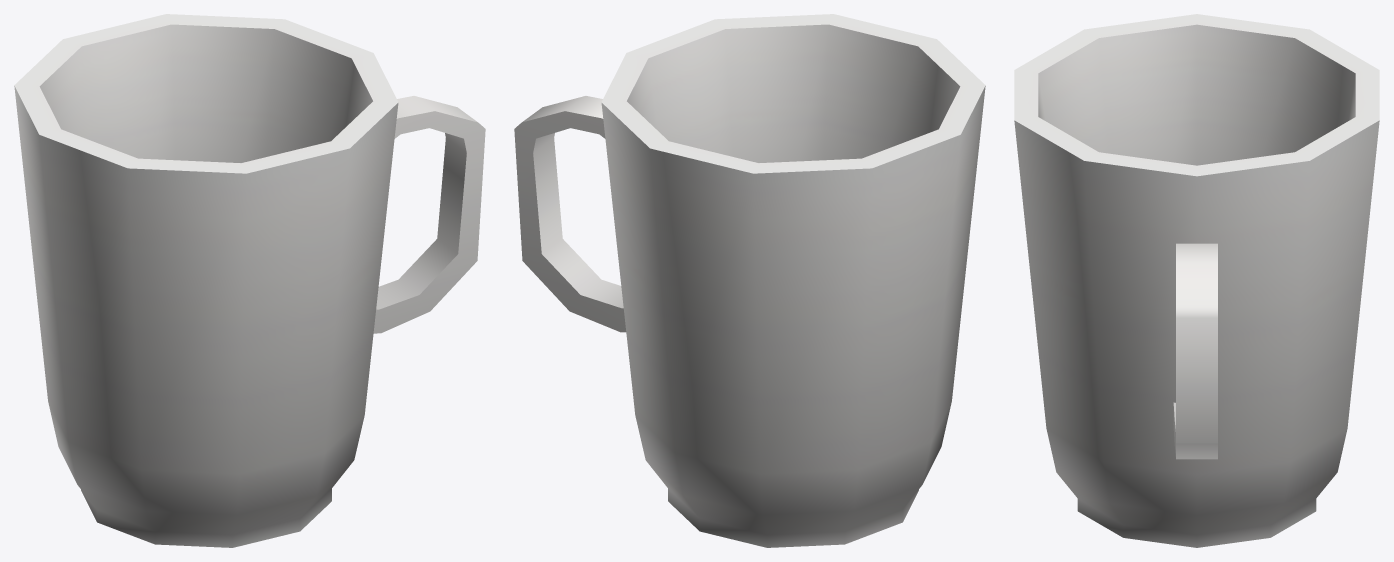
Rendered from TeaCup.fbx.
The picture shows the model from 3 angles, left to right: view 1: azimuth 30°, elevation 25°; view 2: azimuth 150°, elevation 25°; view 3: azimuth 270°, elevation 25°; orthographic projection.
Visible parts, largest first — view 1: TeaCup; view 2: TeaCup; view 3: TeaCup.
Part boxes in pixels (bbox=[...]): TeaCup: bbox=[14, 14, 485, 547]; TeaCup: bbox=[514, 14, 985, 547]; TeaCup: bbox=[1014, 14, 1379, 547].
Size of the model in its own units: 14.75 by 13 by 10.77.
